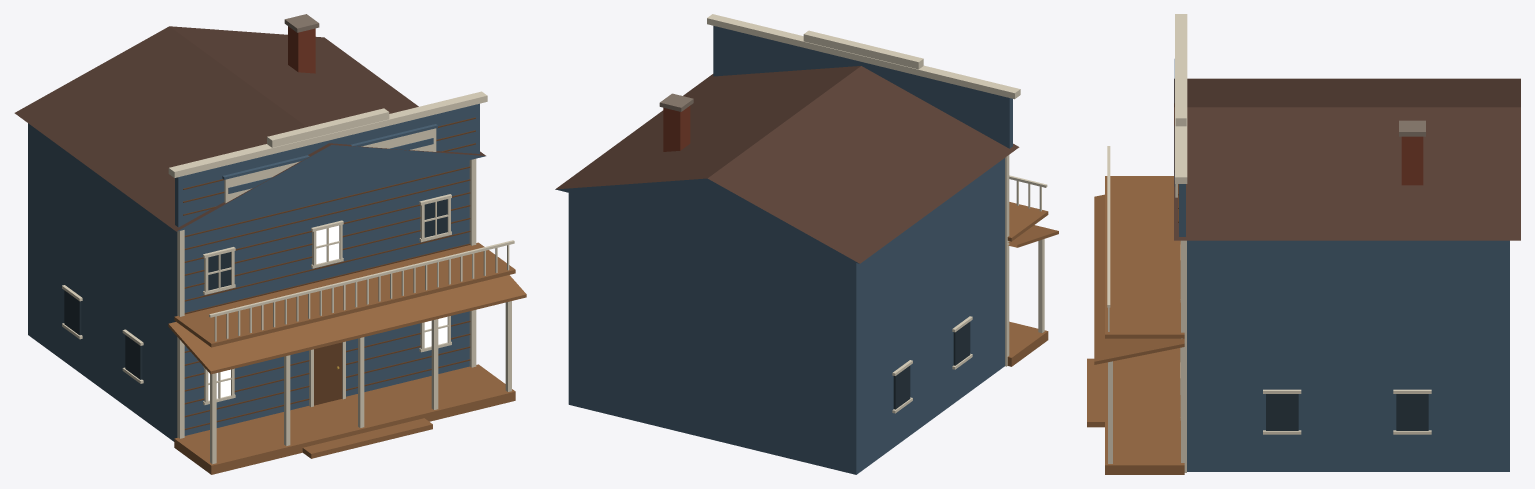
Rendered from SM_Hotel.fbx.
3 renders of one model, left to right at view 1: azimuth 30°, elevation 25°; view 2: azimuth 150°, elevation 25°; view 3: azimuth 270°, elevation 25°, orthographic. The views are drawn at different scales.
Parts seen in each view (by area): view 1: Hotel; view 2: Hotel; view 3: Hotel.
Boxes of the visible parts, box(x1,y1,x2,y2) form: Hotel: box(14, 14, 526, 474); Hotel: box(555, 14, 1058, 474); Hotel: box(1087, 14, 1520, 474).
Size of the model in its own units: 1080 by 1200 by 952.
